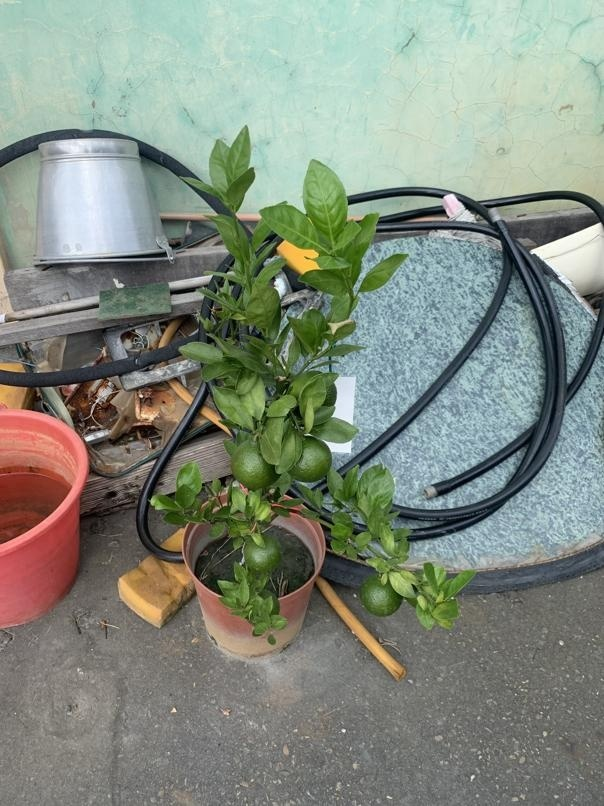Tangerine: (232, 438, 280, 488), (290, 433, 337, 482), (364, 571, 407, 616)
